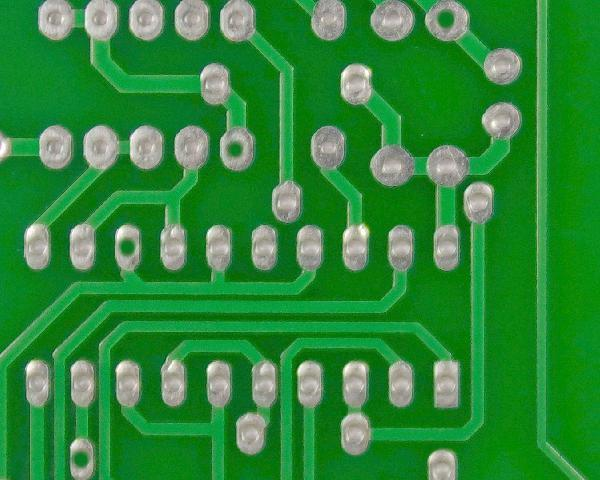missing hole: (216, 119, 258, 175), (422, 1, 476, 44), (111, 221, 145, 274), (65, 434, 99, 479)
